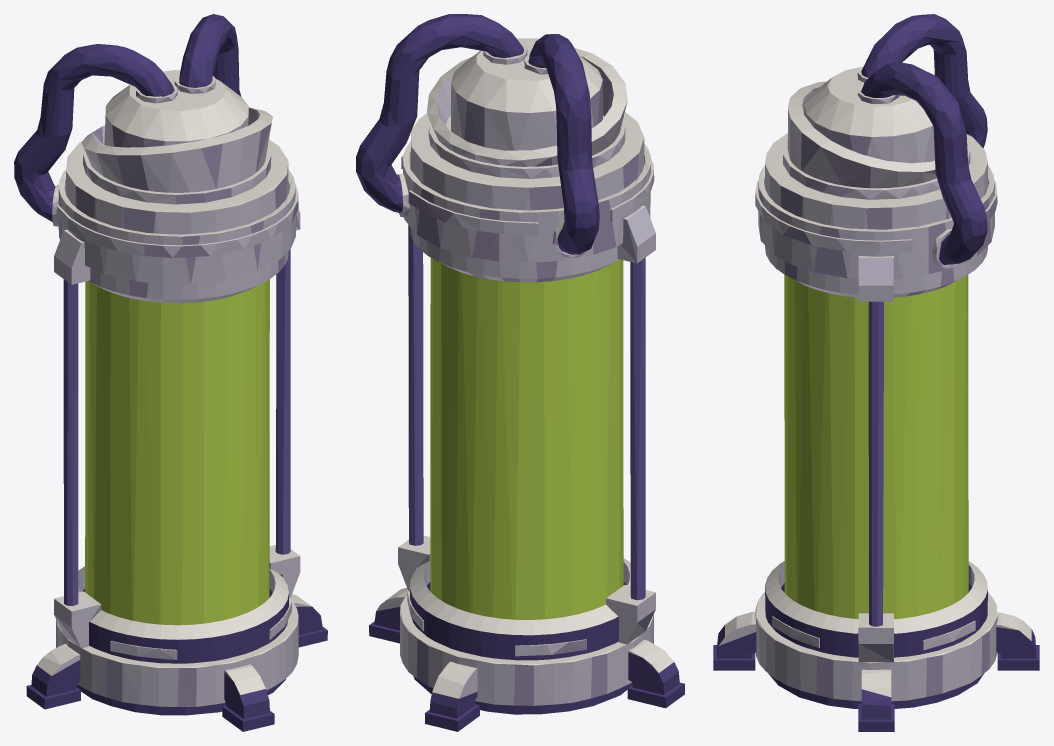
The model's file is capsula.glb.
3 renders of one model, left to right at view 1: azimuth 30°, elevation 25°; view 2: azimuth 150°, elevation 25°; view 3: azimuth 270°, elevation 25°, orthographic. The views are drawn at different scales.
Visible parts, largest first — view 1: capsula; view 2: capsula; view 3: capsula.
Part boxes in pixels (x1,y1,x2,y2): capsula: (14, 14, 327, 731); capsula: (356, 14, 684, 731); capsula: (713, 14, 1039, 731).
Size of the model in its own units: 1 by 2.1 by 1.
